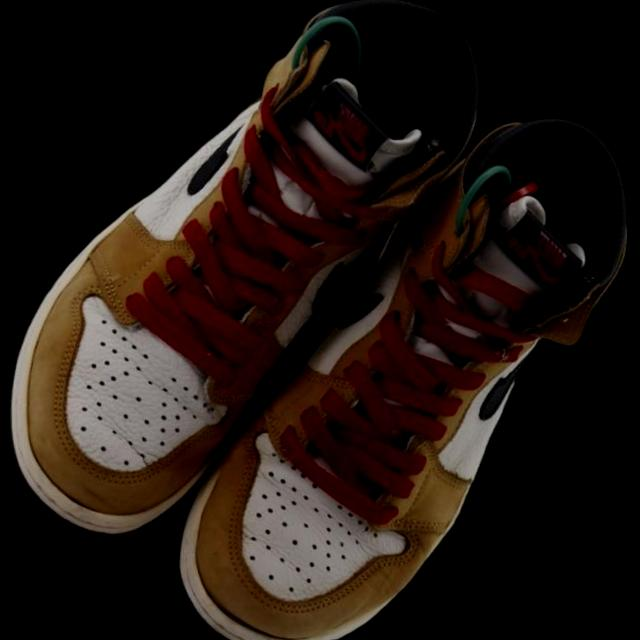nike_original_jordan: (0, 0, 554, 587), (107, 65, 640, 640)
